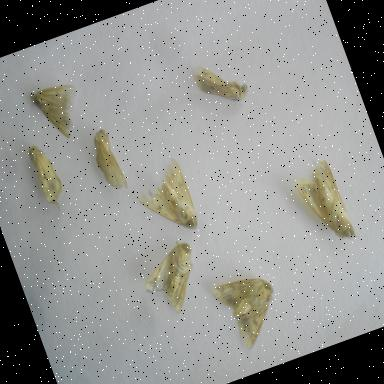abw: (208, 263, 294, 359), (124, 152, 208, 248), (286, 154, 362, 254), (131, 236, 215, 326), (22, 72, 95, 149), (187, 49, 256, 118), (78, 120, 137, 200), (22, 138, 76, 222)
